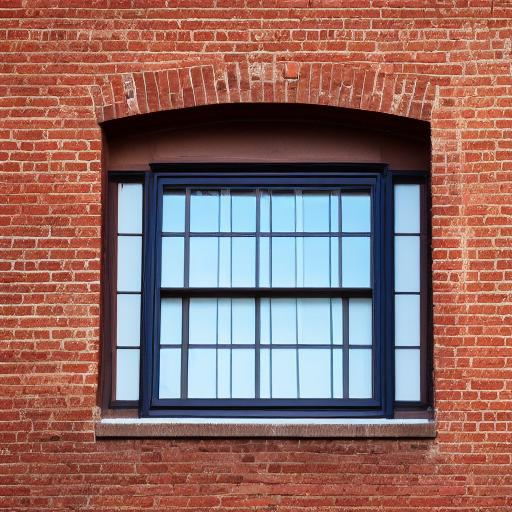Window: (96, 65, 443, 444)
